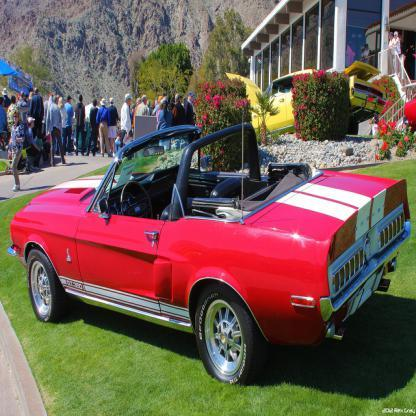car: (6, 106, 412, 384), (228, 70, 392, 132)
